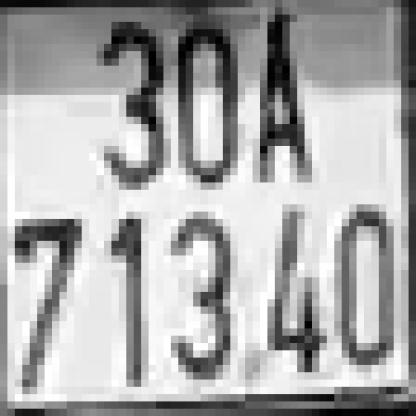0: (171, 29, 238, 190), (327, 204, 394, 358)
1: (89, 204, 149, 379)
3: (89, 22, 171, 190), (163, 212, 238, 372)
4: (245, 204, 327, 365)
7: (15, 211, 82, 380)
A: (245, 22, 312, 182)
